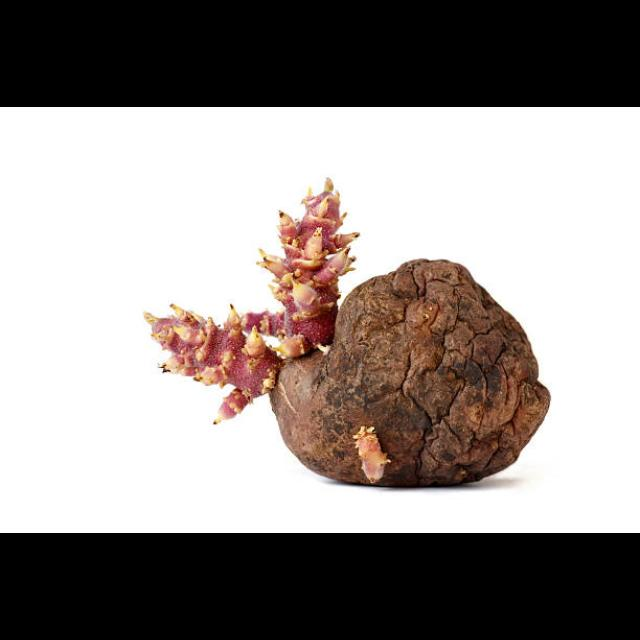Sprouted potato: (142, 162, 550, 486)
